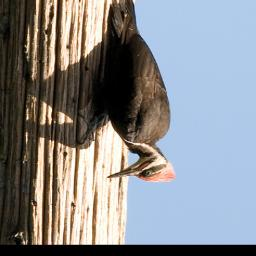Woodpecker: (77, 0, 177, 183)
